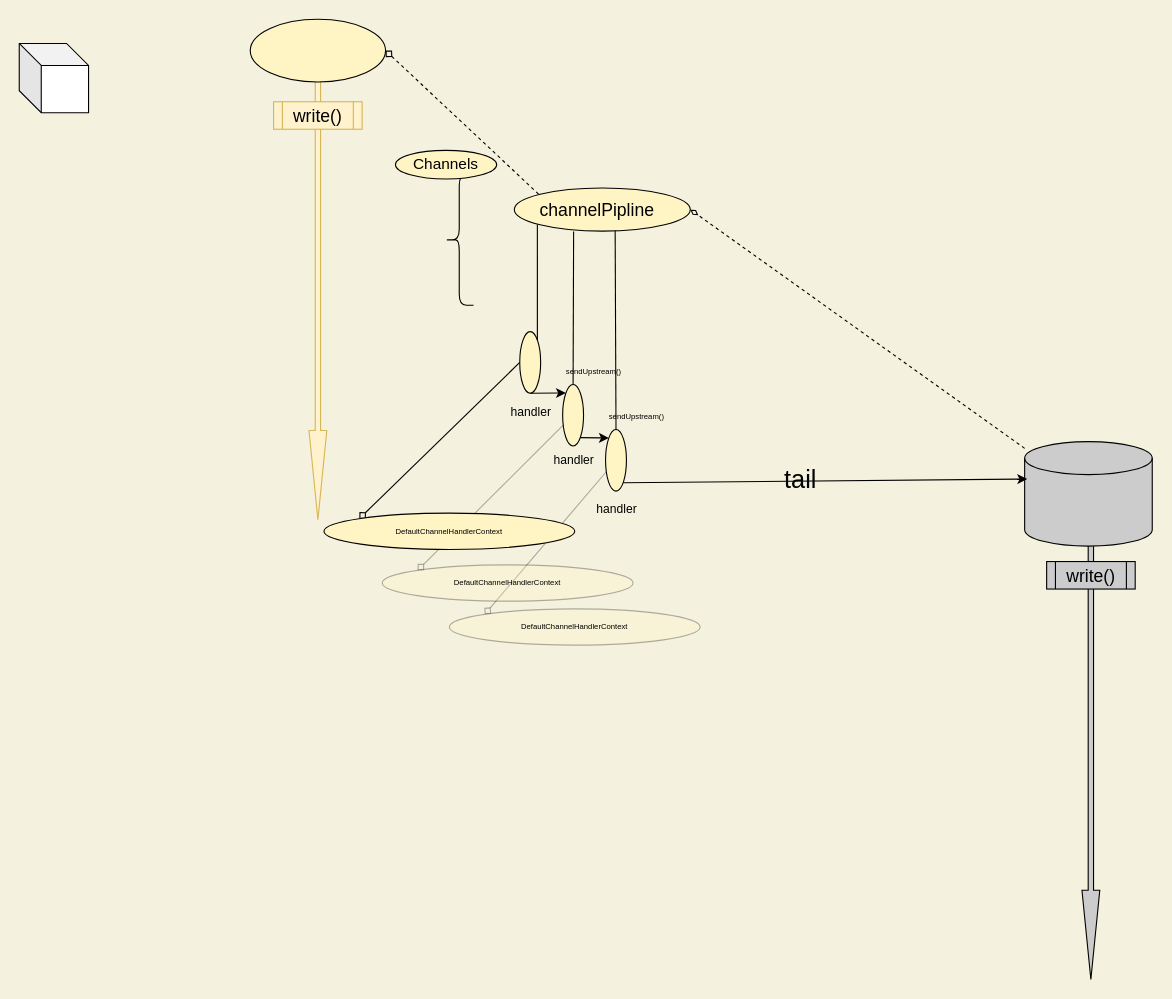
Some shapes in this 1172 by 999 pixel diagram are drawn without their labels. Here are the shapes that lost their labels. From the top down, the centre of each, then its label:
At pixel 317 50: "Channel".
At pixel 53 77: "server logic".
At pixel 1088 493: "channelSink".
